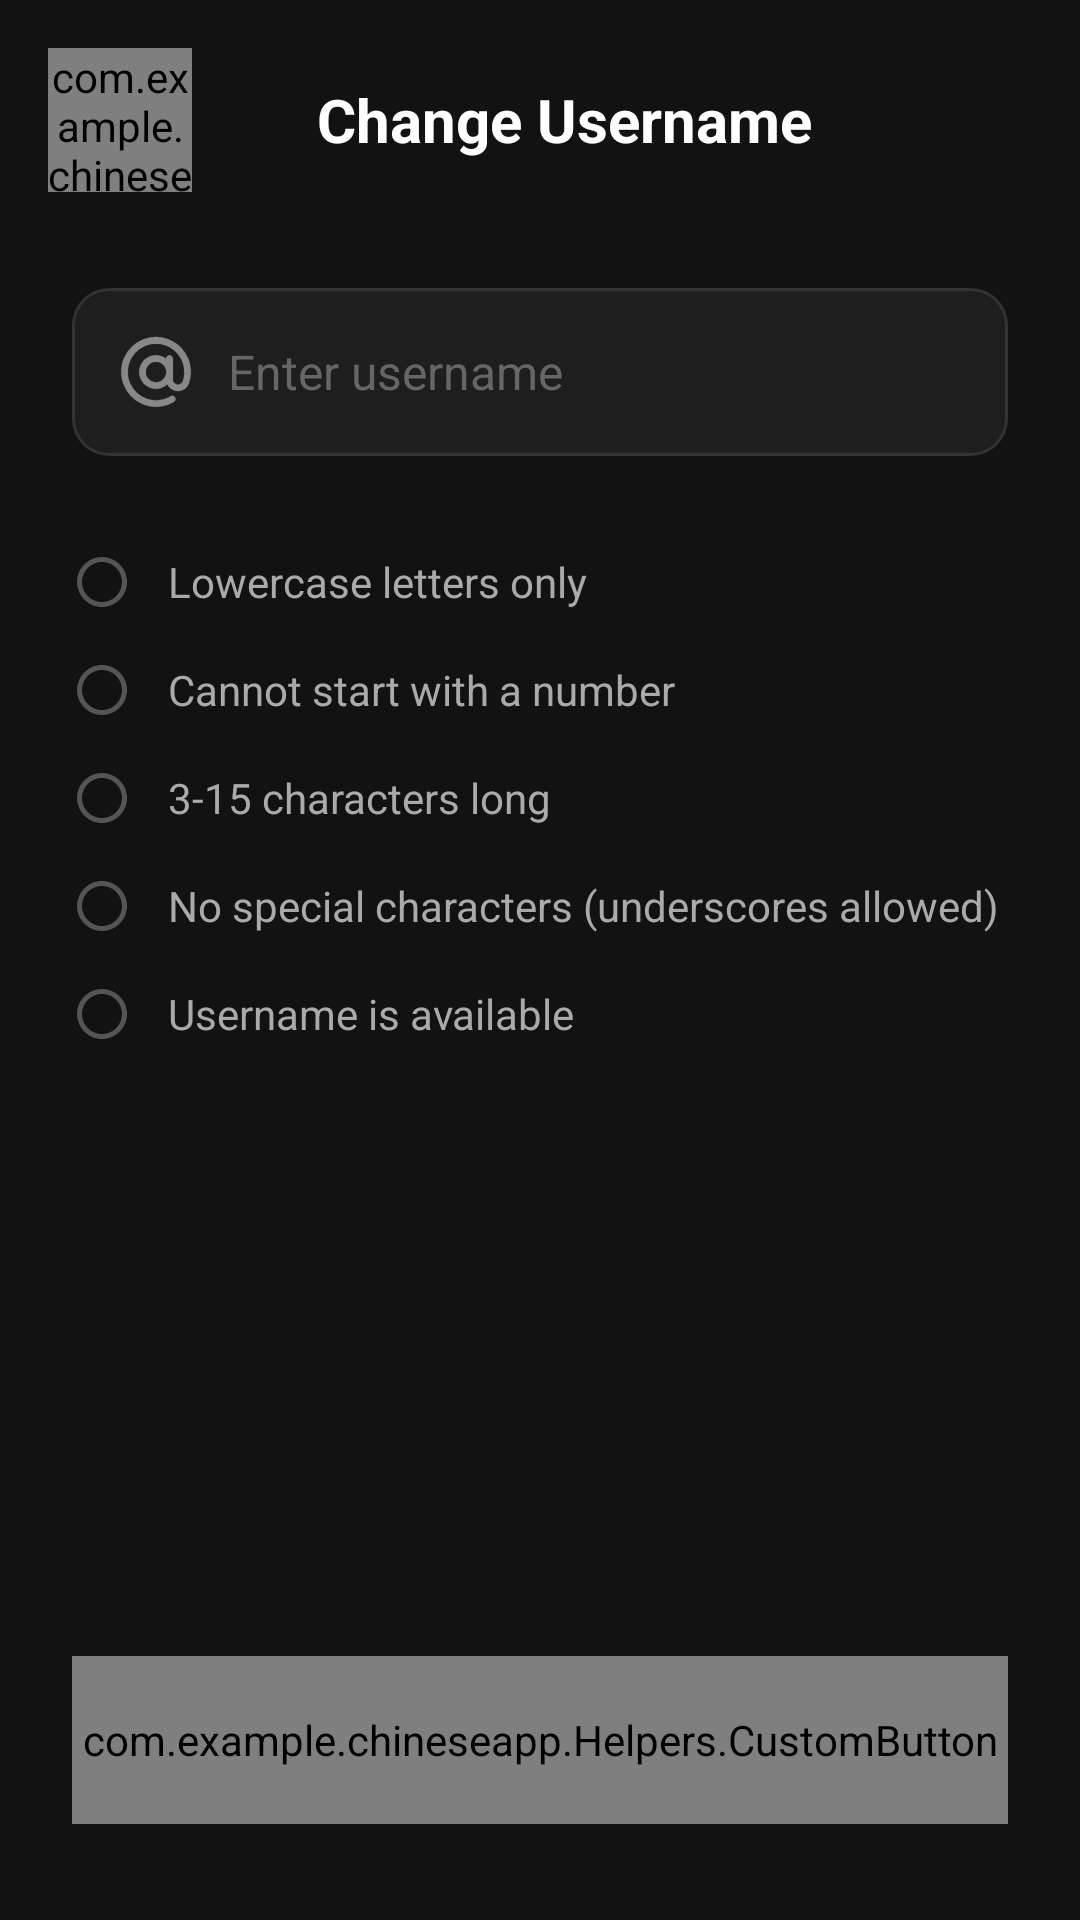

Icons on this 1080px x 1920px Android screen, each with its box as {"x1": x1, "y1": y1, "x2": x2, "y2": y2}:
check empty: {"x1": 77, "y1": 557, "x2": 127, "y2": 607}, {"x1": 77, "y1": 665, "x2": 127, "y2": 715}, {"x1": 77, "y1": 773, "x2": 127, "y2": 823}, {"x1": 77, "y1": 881, "x2": 127, "y2": 931}, {"x1": 77, "y1": 989, "x2": 127, "y2": 1039}
